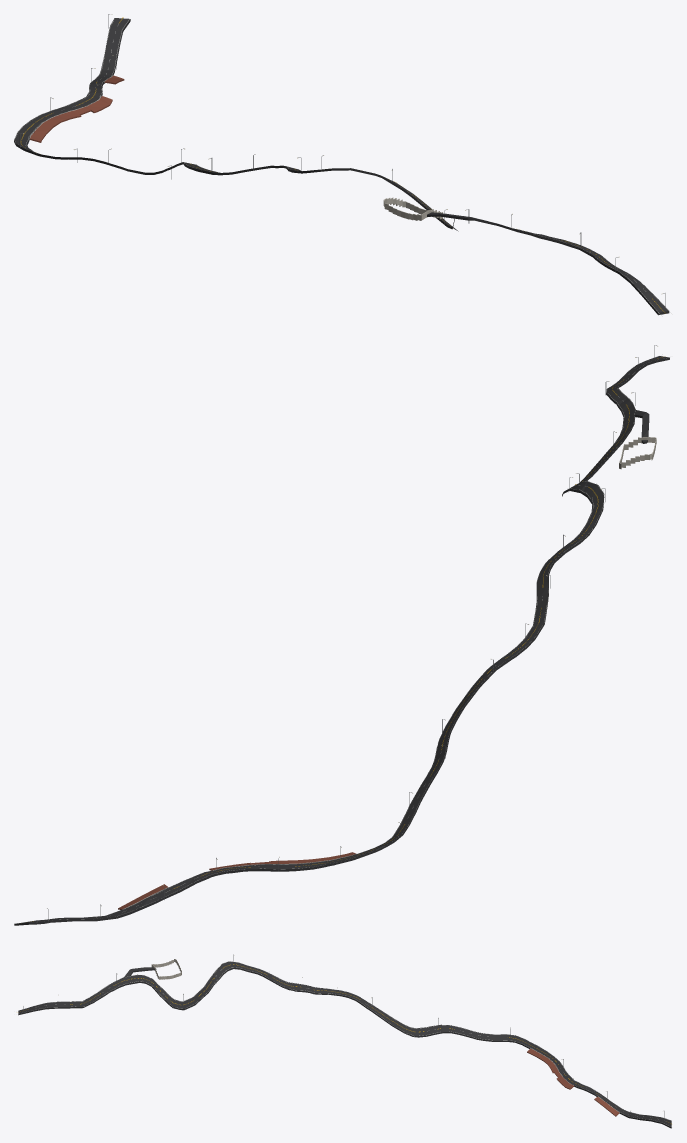
Rendered from 16-54714-29750.542bca36.glb.
3 views of the same model, one above another, from view 1: azimuth 30°, elevation 25°; view 2: azimuth 150°, elevation 25°; view 3: azimuth 270°, elevation 25° (orthographic). The views are drawn at different scales.
Bounding box in the file's own units: 144 × 121 × 588.
